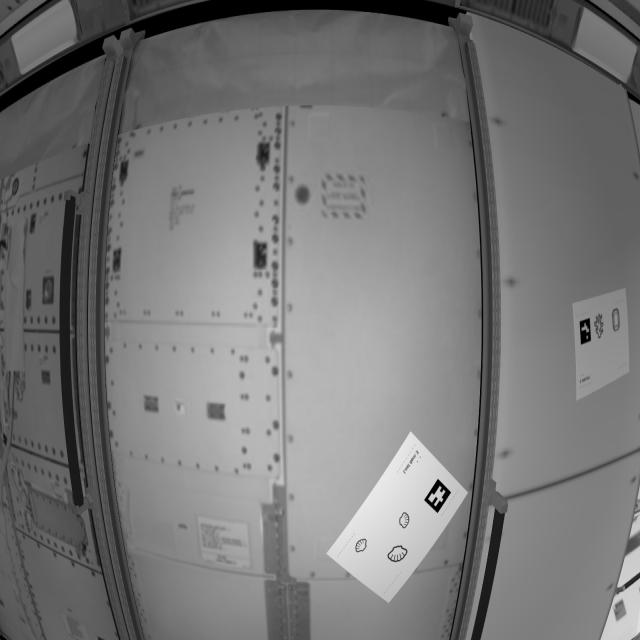coral: (594, 314, 607, 340)
emerald: (613, 308, 622, 335)
shell: (386, 544, 410, 565), (356, 539, 370, 556), (399, 512, 411, 531)
